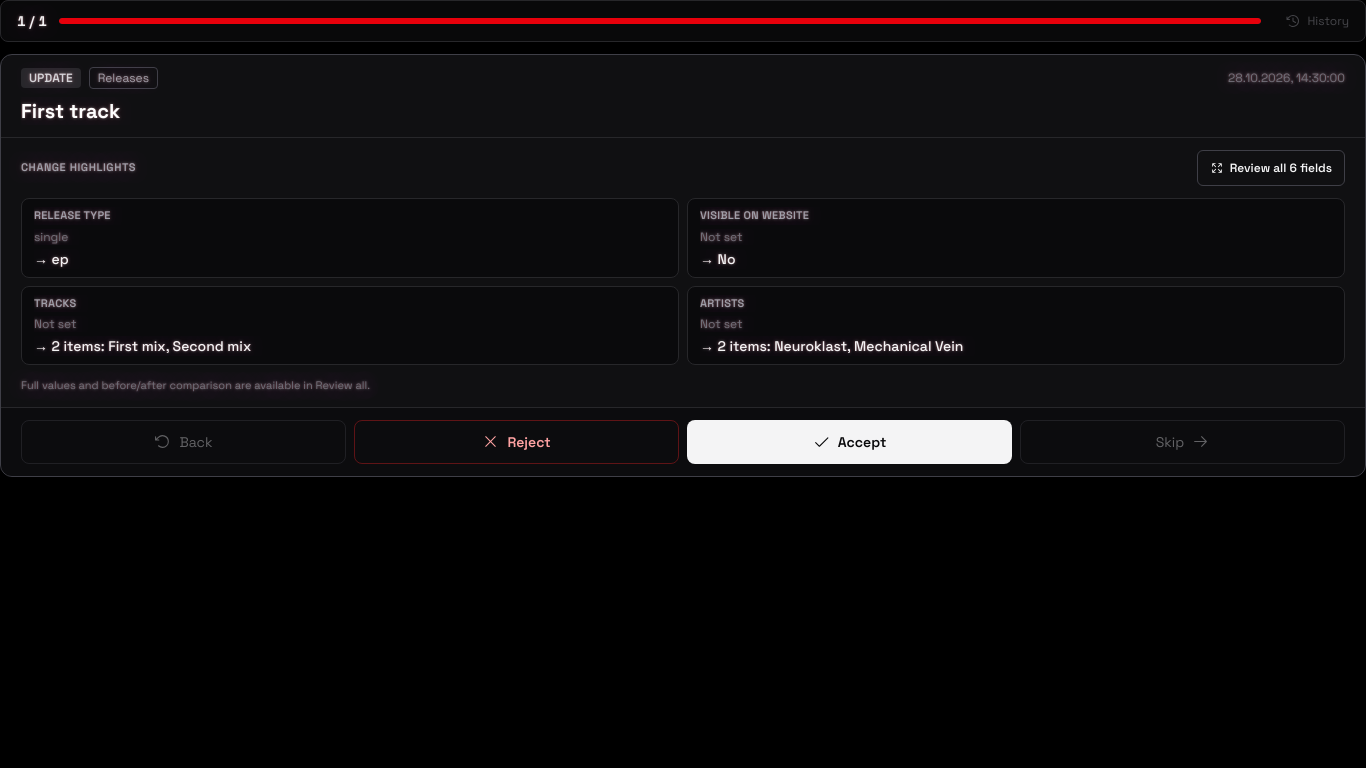
AI content review carousel › keeps all review actions in a fixed-height card while allowing a separate full-details view
expect the footer named "Review actions" is shown: met, box [1,407,1365,476]
Click the button "Review all 6 fields".
click(1271, 168)  # box [1197,150,1345,186]
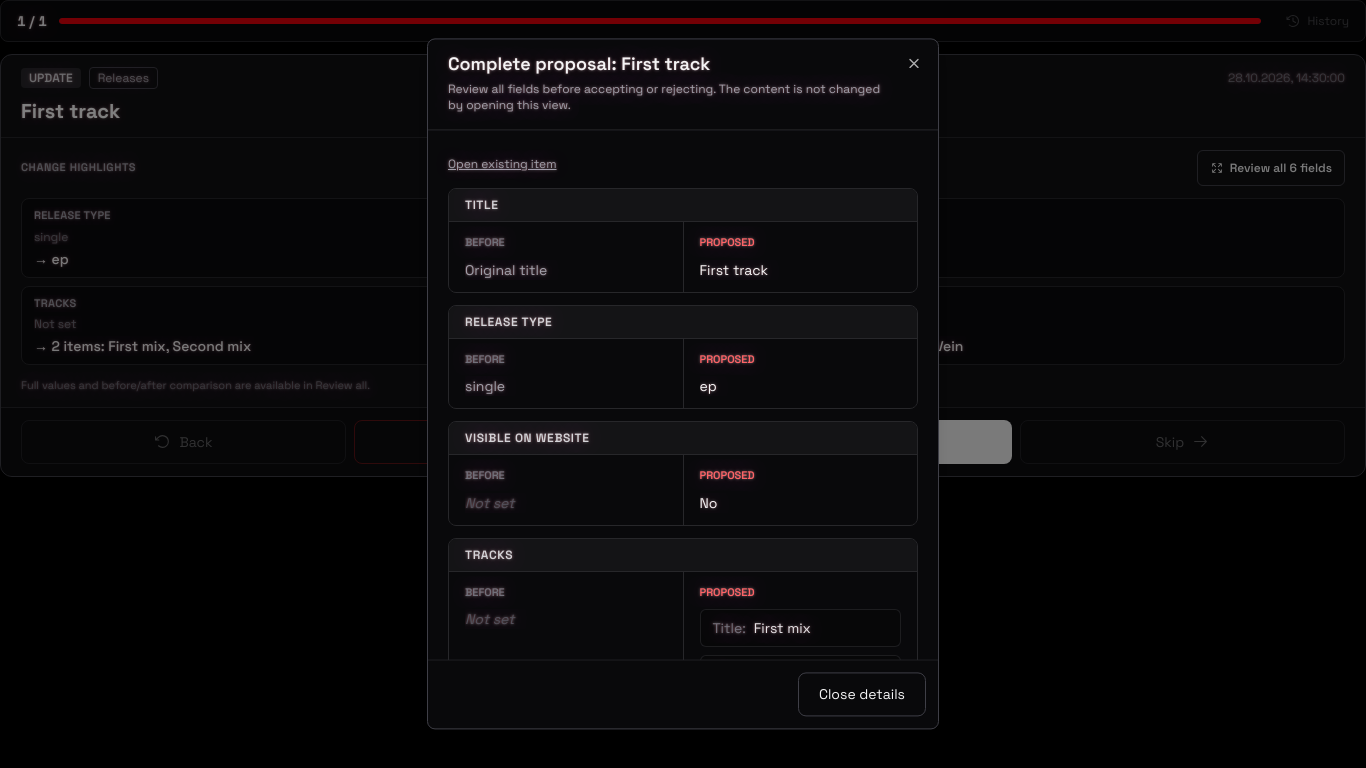
expect the text "First mix" is shown: met, box [754,620,811,638]
